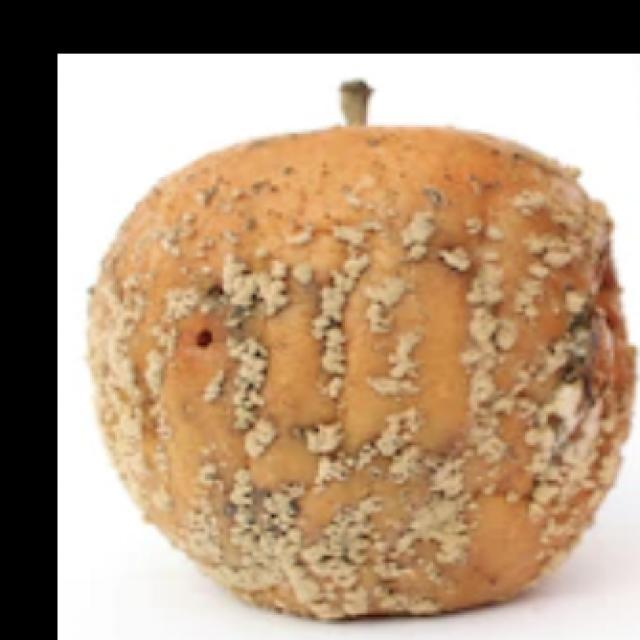Rotten: (86, 133, 634, 640)
